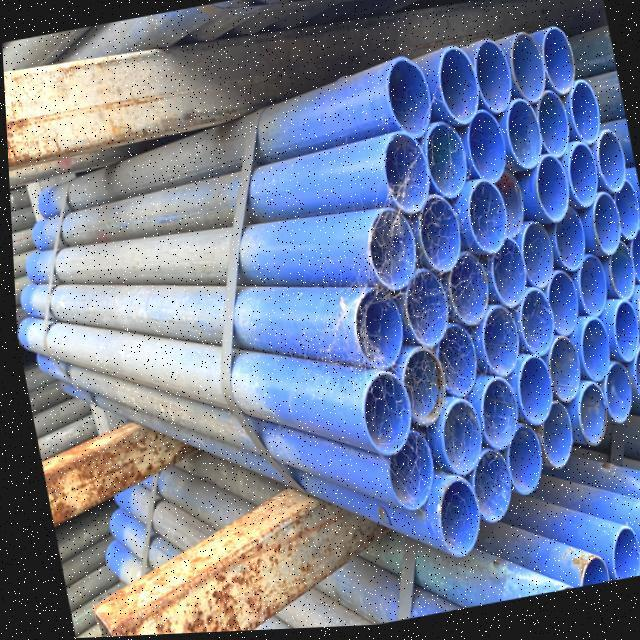pipe: (347, 286, 399, 372), (388, 273, 441, 355), (378, 429, 429, 514), (357, 374, 406, 458), (365, 207, 413, 291), (426, 314, 469, 404), (382, 58, 427, 142), (394, 350, 440, 432), (377, 137, 425, 215), (432, 50, 477, 133), (438, 253, 483, 335), (430, 401, 476, 481), (412, 198, 458, 276), (464, 45, 507, 128), (461, 449, 505, 530), (429, 482, 473, 561), (461, 181, 505, 258), (527, 395, 567, 479), (499, 412, 536, 501), (500, 359, 544, 433), (460, 112, 501, 191), (419, 123, 461, 199), (473, 307, 517, 379), (504, 97, 543, 176), (471, 380, 510, 459), (539, 337, 579, 411), (533, 82, 567, 167), (484, 240, 523, 314), (512, 292, 551, 364), (545, 201, 578, 285), (514, 223, 551, 295), (527, 159, 564, 228), (543, 267, 576, 344), (539, 31, 575, 99), (570, 385, 605, 453), (595, 362, 629, 432), (569, 256, 604, 322), (587, 190, 618, 264), (490, 171, 520, 245), (565, 85, 598, 149), (571, 323, 603, 389), (510, 41, 541, 106), (564, 150, 594, 212), (607, 305, 634, 371), (594, 136, 622, 199), (602, 244, 630, 307), (611, 183, 637, 243), (608, 535, 632, 578), (627, 349, 640, 410), (632, 237, 640, 287), (633, 514, 640, 571), (635, 296, 640, 349)
